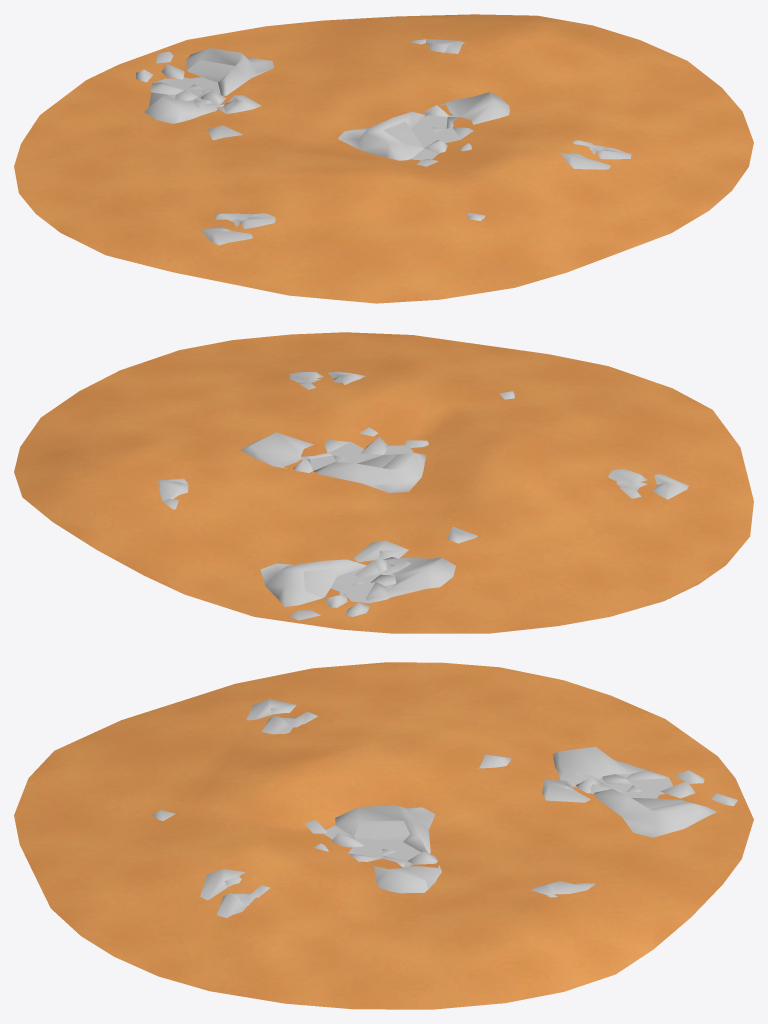
3 renders of one model, top to bottom at view 1: azimuth 30°, elevation 25°; view 2: azimuth 150°, elevation 25°; view 3: azimuth 270°, elevation 25°, orthographic. The views are drawn at different scales.
Parts seen in each view (by area): view 1: SM_Vault_Sand_Pile_01_V3_LOD0; view 2: SM_Vault_Sand_Pile_01_V3_LOD0; view 3: SM_Vault_Sand_Pile_01_V3_LOD0.
Part boxes in pixels (x1,y1,x2,y2): SM_Vault_Sand_Pile_01_V3_LOD0: (14, 14, 753, 303); SM_Vault_Sand_Pile_01_V3_LOD0: (14, 332, 753, 633); SM_Vault_Sand_Pile_01_V3_LOD0: (14, 662, 753, 1009).
Bounding box in the file's own units: 4.98 × 0.2136 × 4.48.
